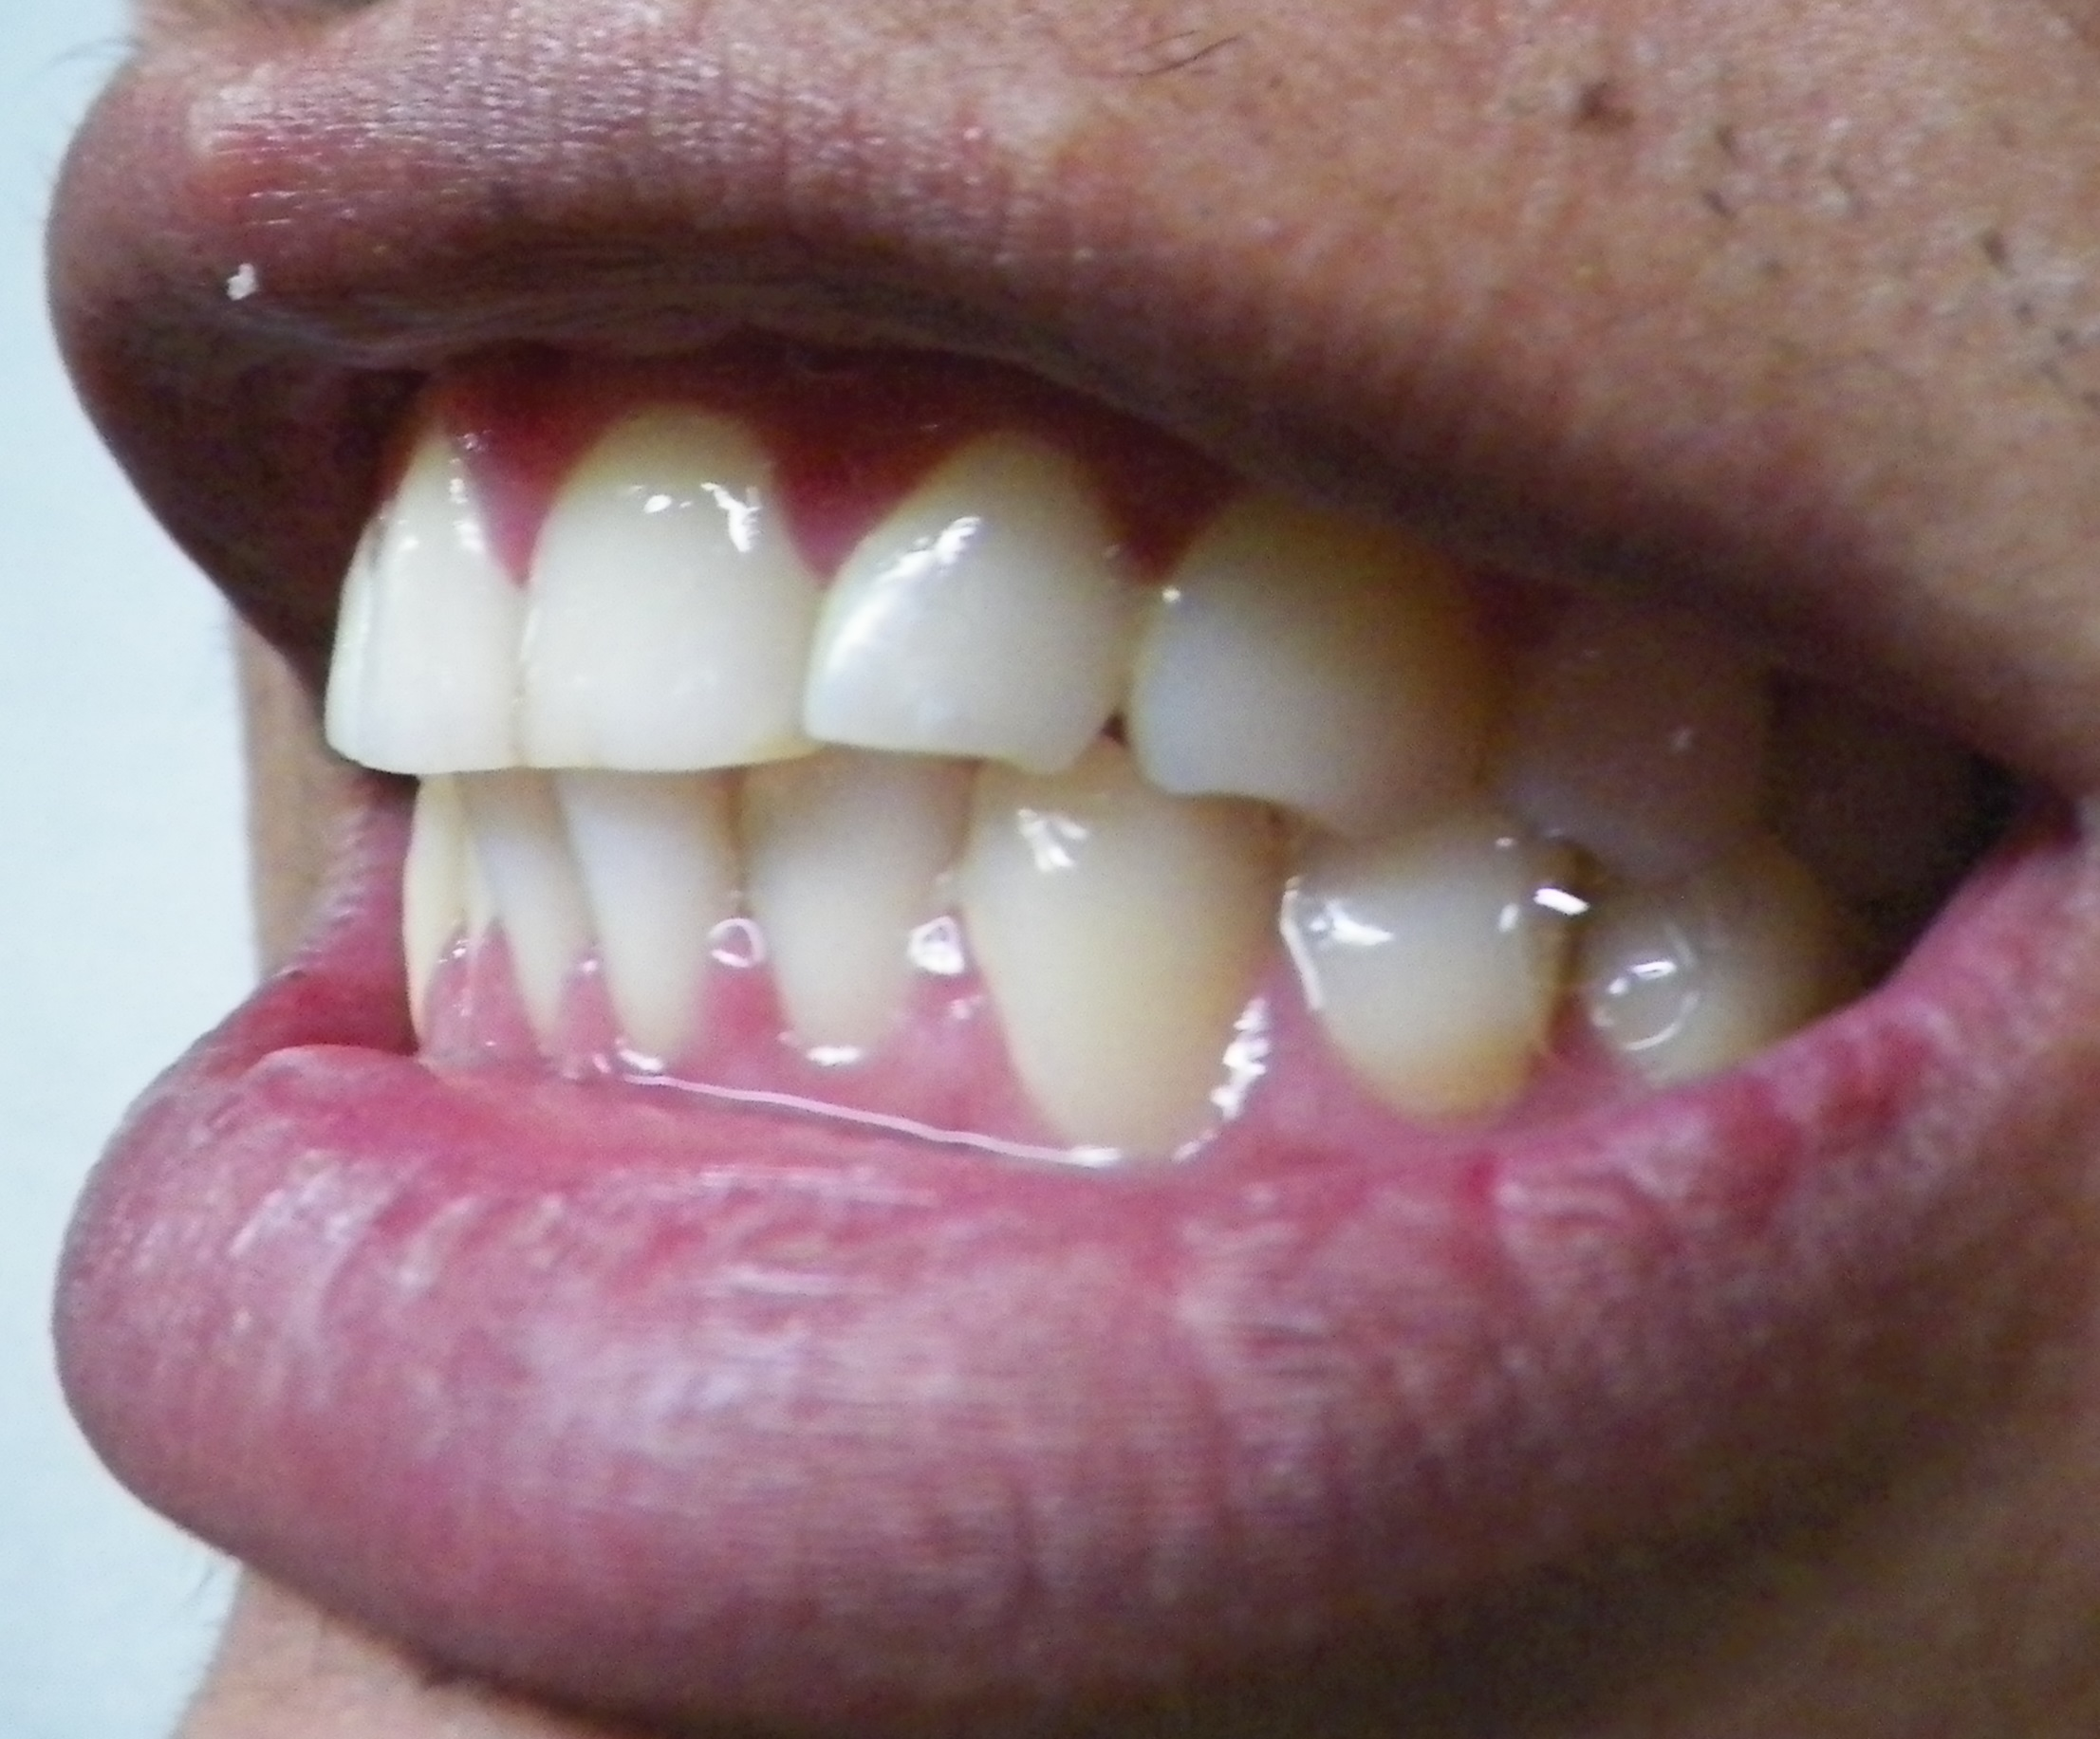boca: (326, 429, 1828, 1109)
